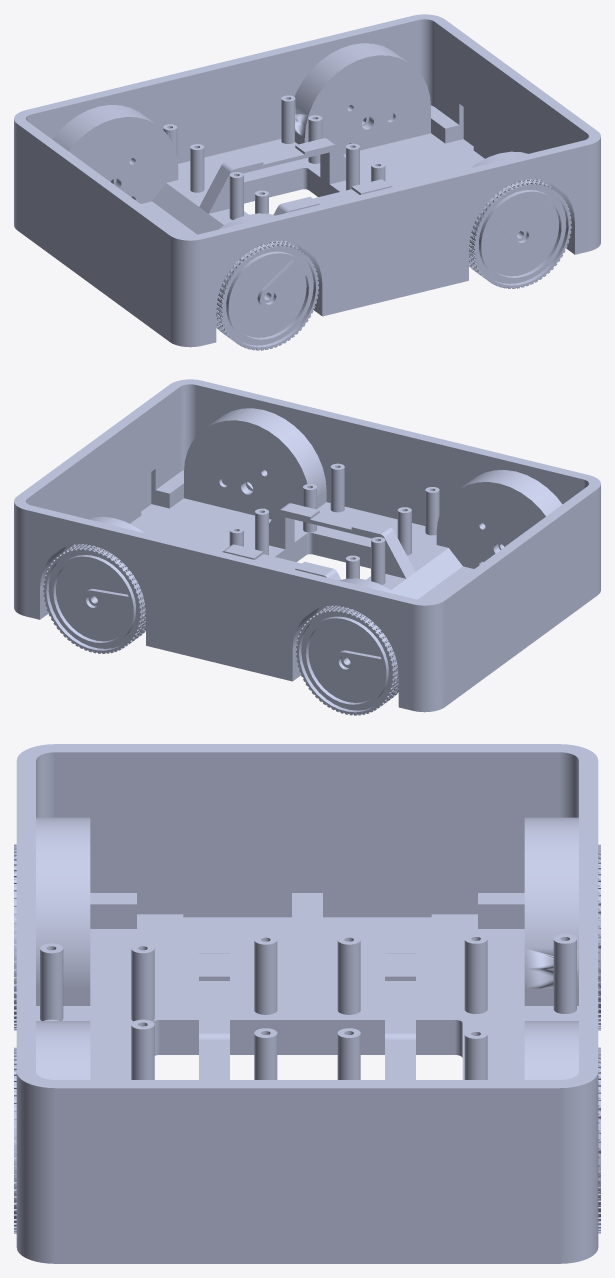
The model's file is agv.glb.
3 views of the same model, one above another, from view 1: azimuth 30°, elevation 25°; view 2: azimuth 150°, elevation 25°; view 3: azimuth 270°, elevation 25° (orthographic). The views are drawn at different scales.
Visible parts, largest first — view 1: podwozie_main, wheel_fl, wheel_rl; view 2: podwozie_main, wheel_fr, wheel_rr; view 3: podwozie_main.
Part boxes in pixels (x1,y1,x2,y2): podwozie_main: (14, 14, 600, 347); wheel_fl: (216, 240, 318, 350); wheel_rl: (469, 179, 571, 288); podwozie_main: (14, 379, 600, 712); wheel_fr: (296, 605, 398, 715); wheel_rr: (43, 544, 145, 653); podwozie_main: (16, 744, 598, 1263).
Bounding box in the file's own units: 0.21 × 0.059 × 0.1514.
